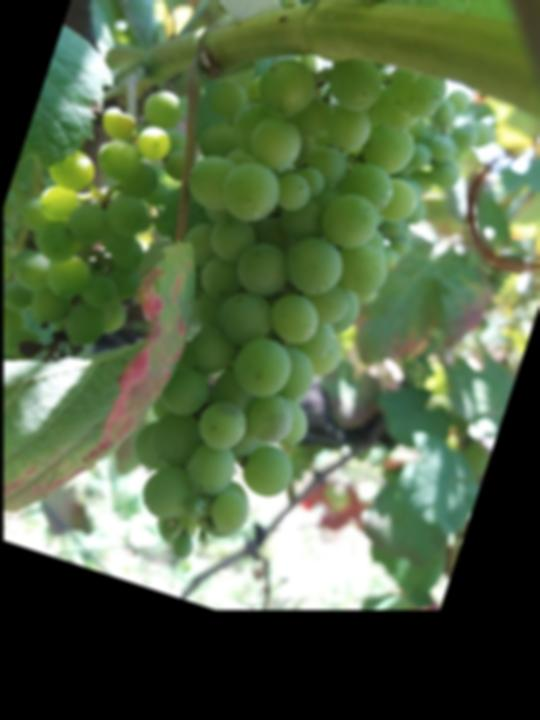grape: (58, 5, 466, 603)
